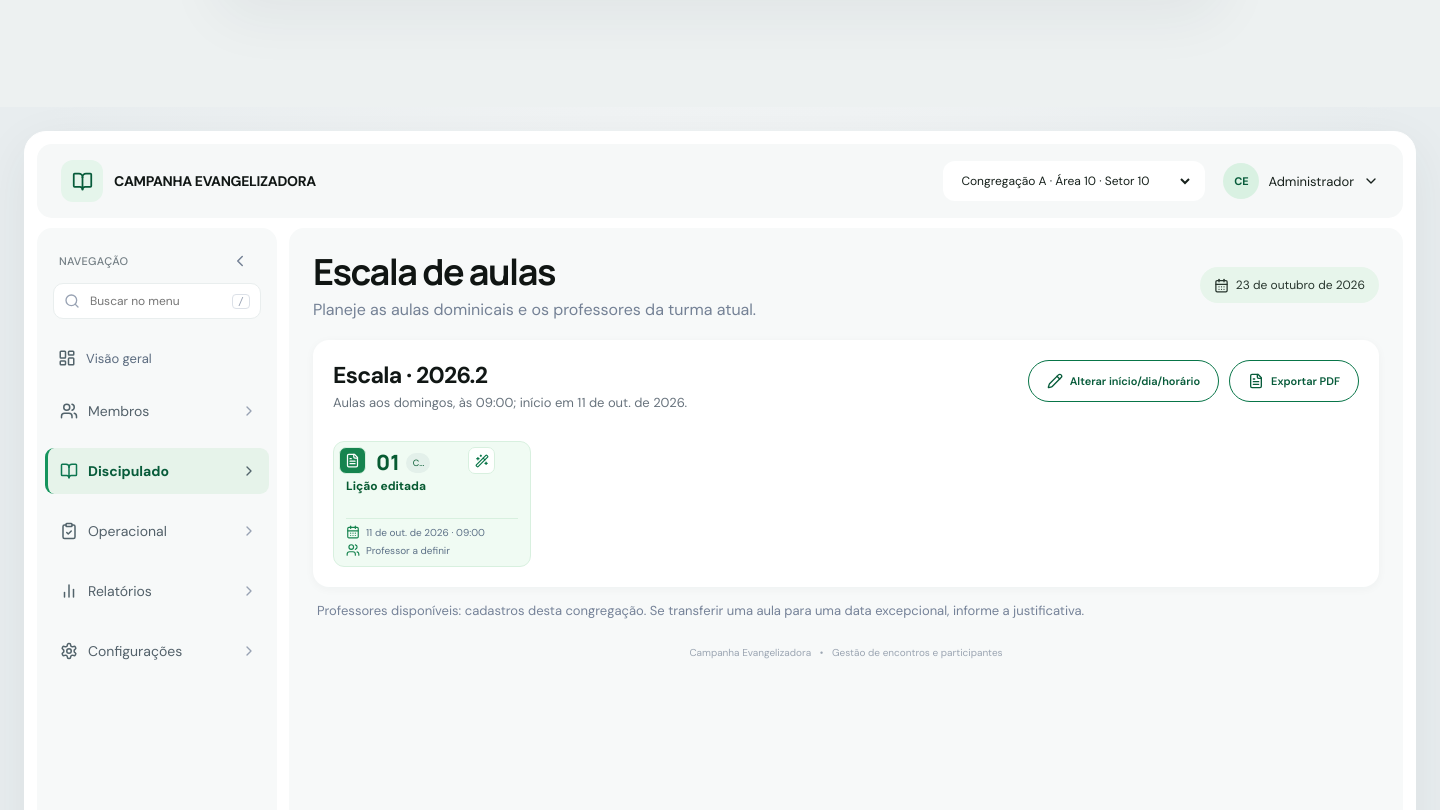
fluxos do painel › mostra o questionário quando o backend envia a conclusão por WebSocket
The width and height of the screenshot is (1440, 810).
(page scrolled)
Click the button named "Gerar questionário para" at (482, 461), box x1=468 y1=447 x2=495 y2=474
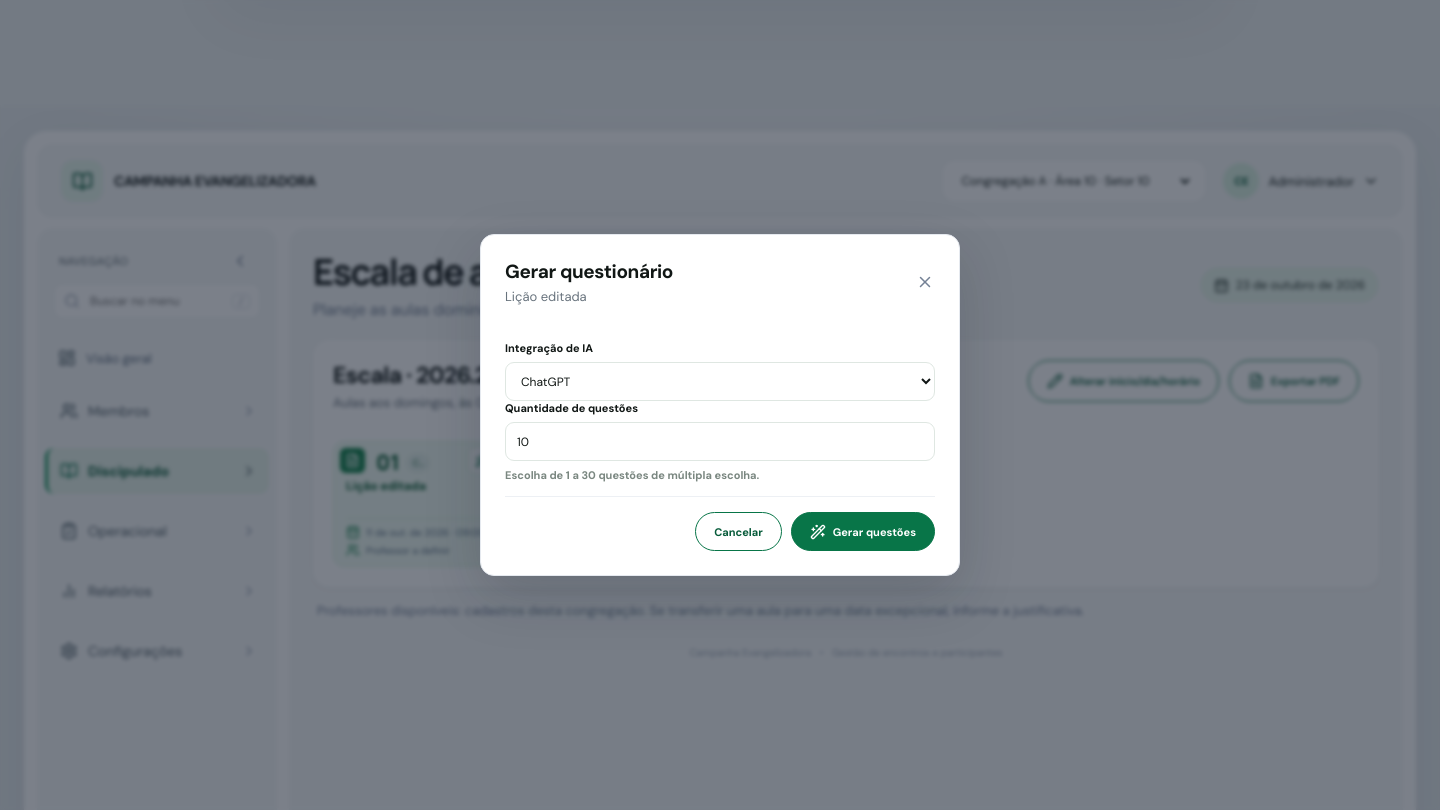
Click the button "Gerar questões" at (863, 532), box x1=791 y1=512 x2=935 y2=551
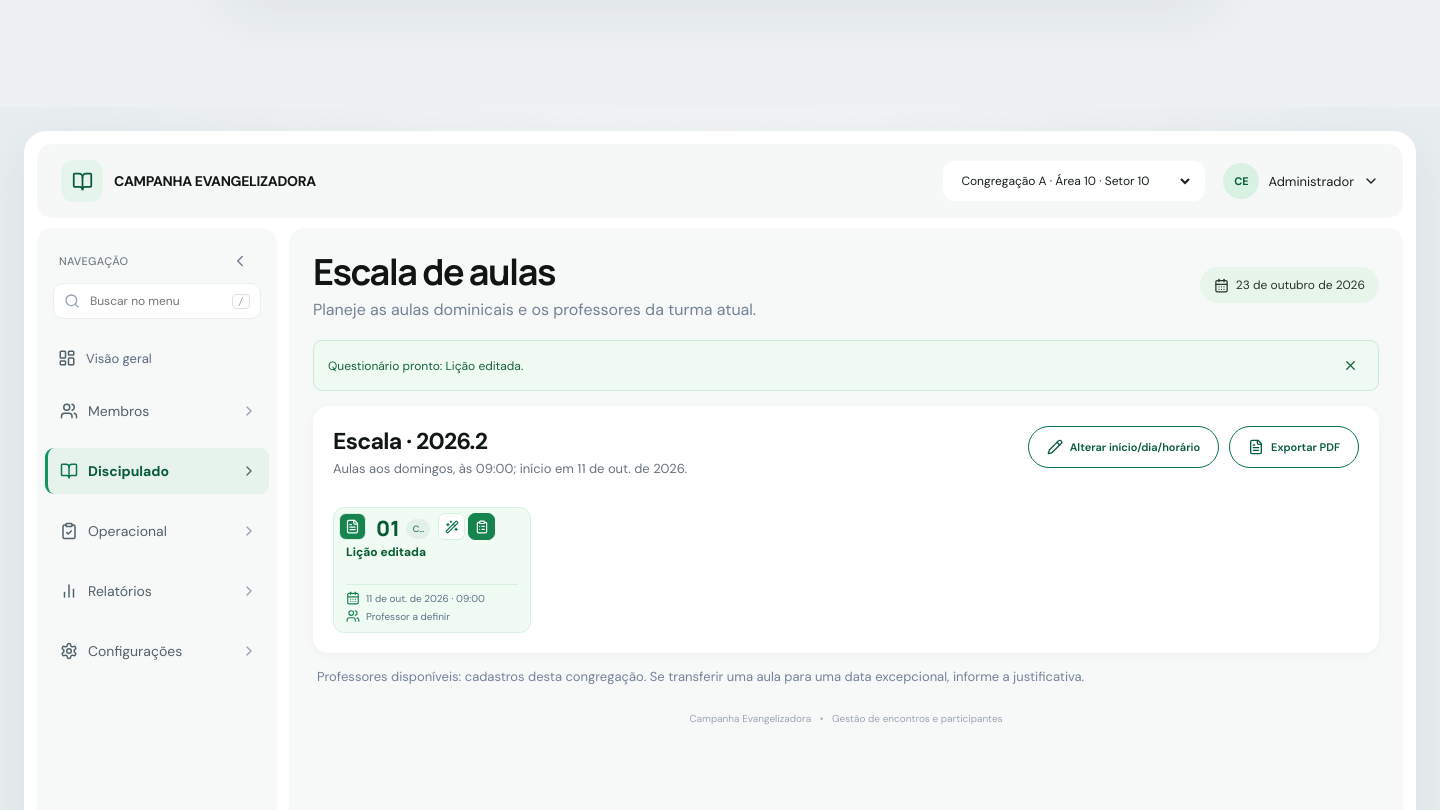
Check: the dialog is gone
Click the button named "Abrir questionário de Lição editada" at (482, 527), box x1=468 y1=513 x2=495 y2=540
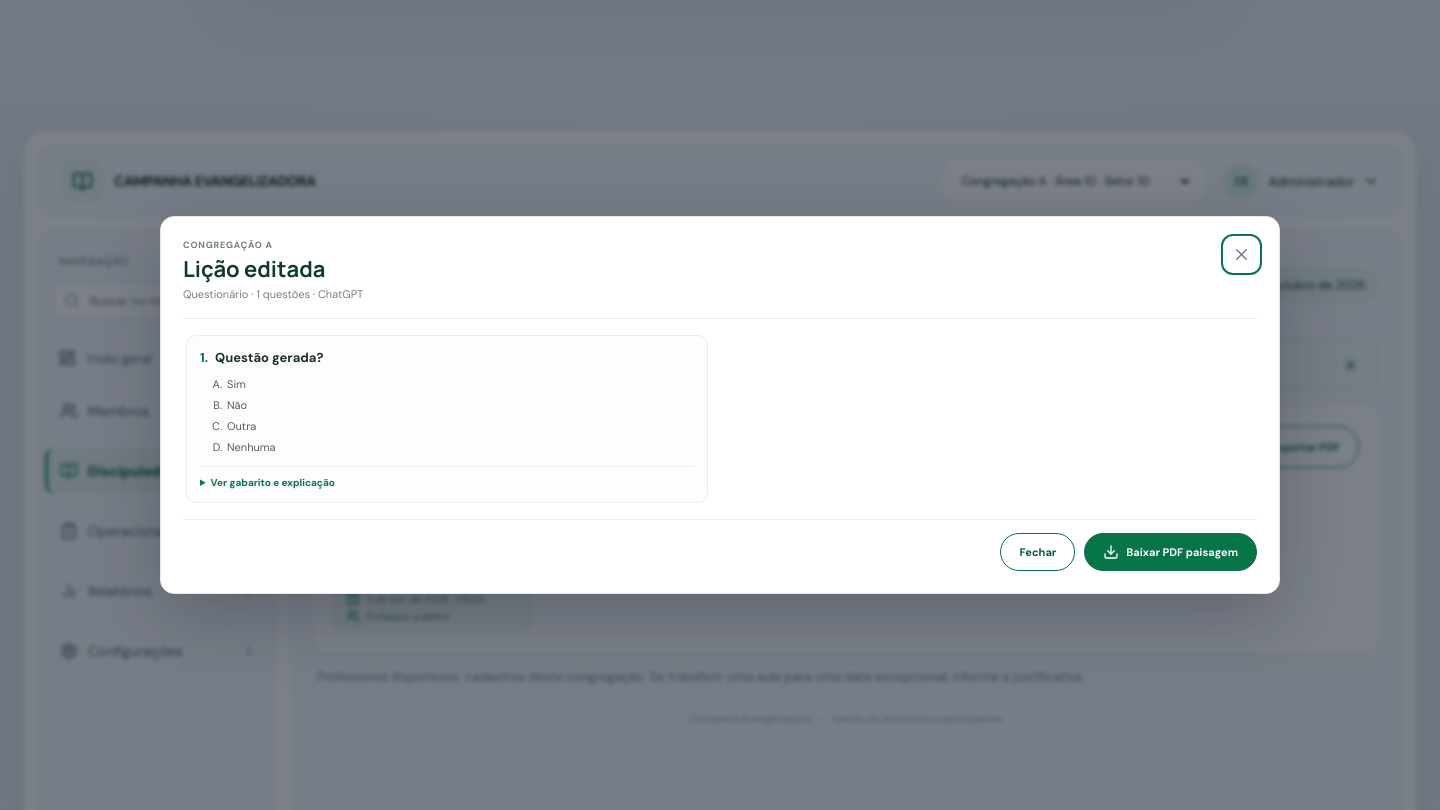
Check: the heading "1. Questão gerada?" is shown, box x1=200 y1=349 x2=323 y2=366
